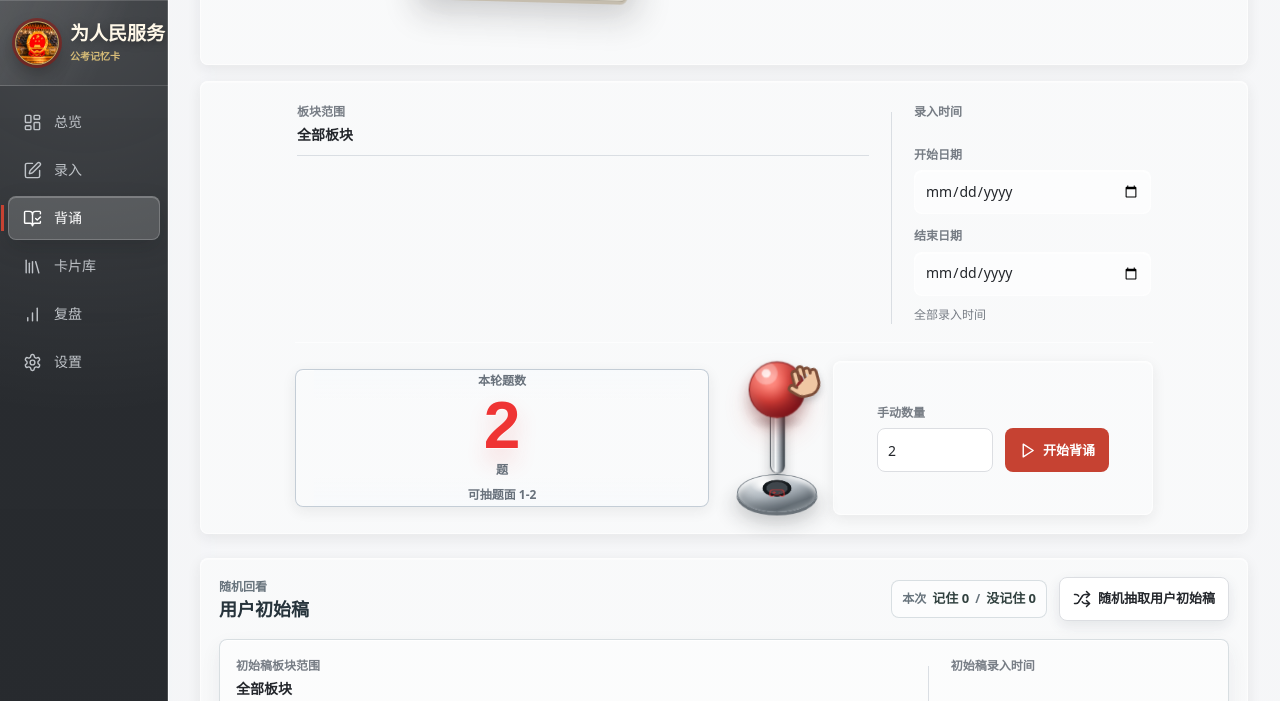
Test: 背诵键盘快捷操作 › 空格查看答案，左右方向键切换题目并收起答案
(page scrolled)
Click the button "开始背诵" at (1057, 450), box [1005,428,1109,472]
(page scrolled)
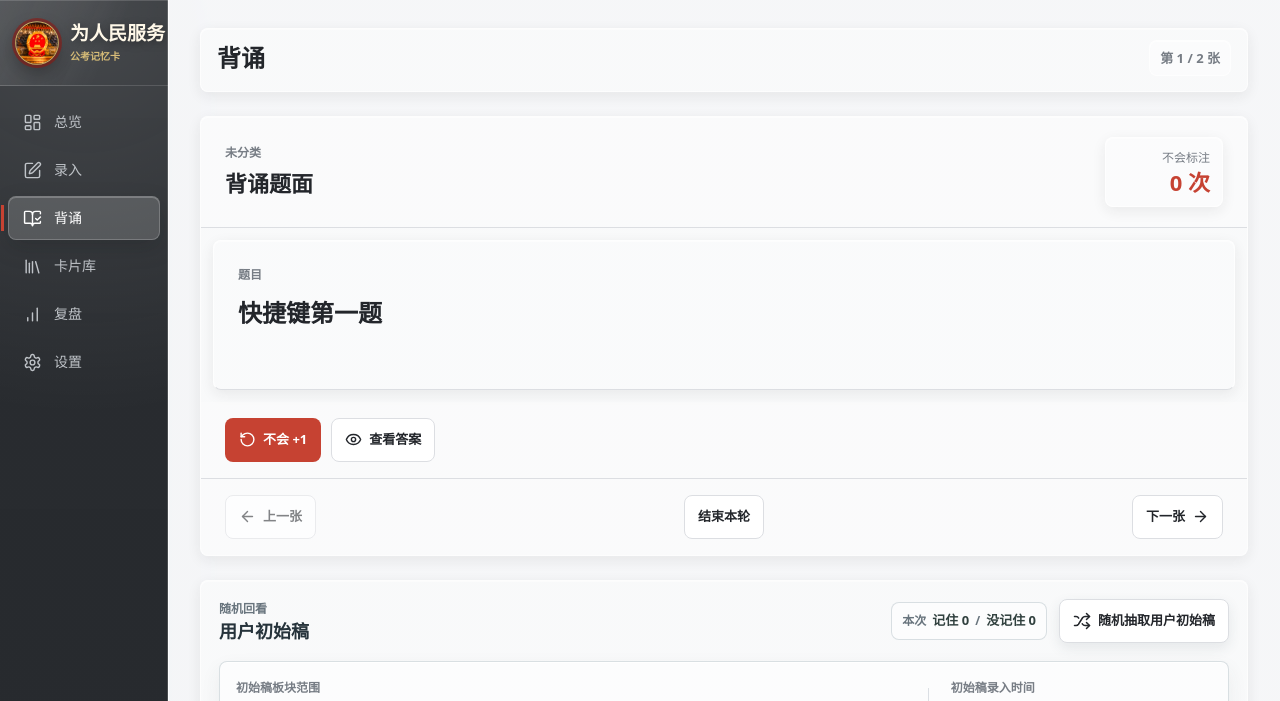
Now the text "快捷键第一题" is shown, box [238,296,382,329]
Press Space
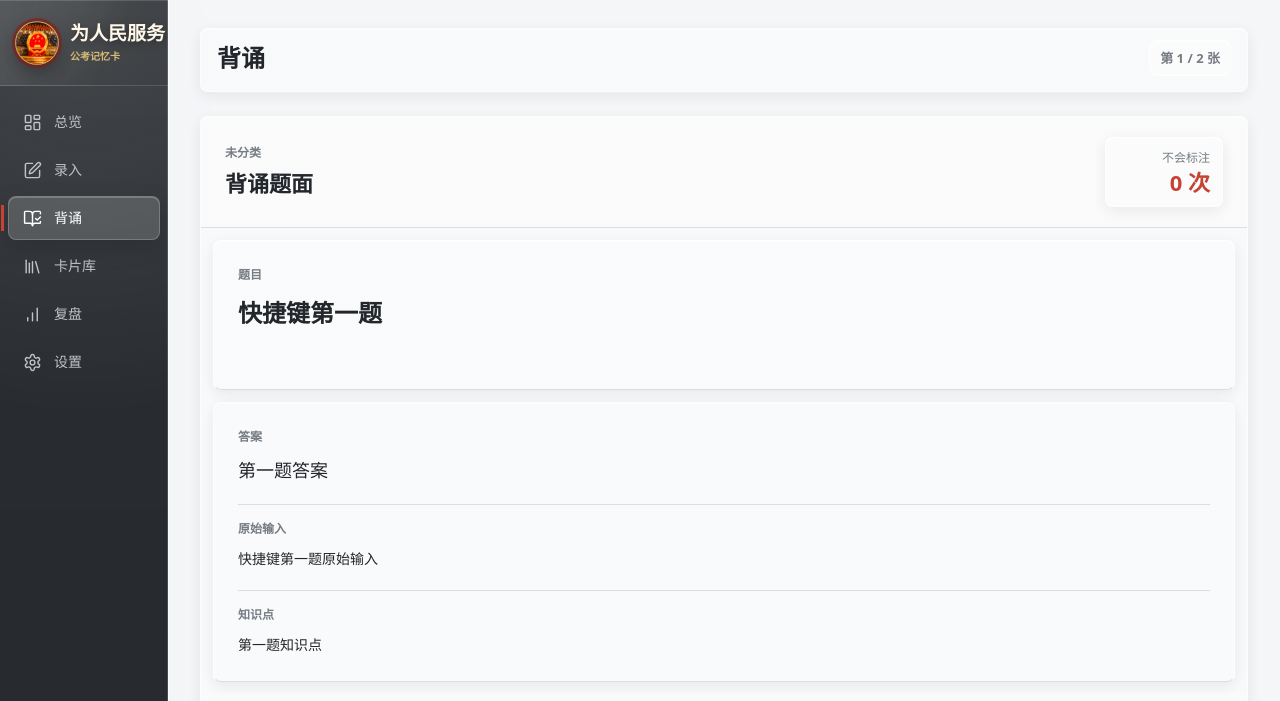
Now the text "第一题答案" is shown, box [238,458,328,482]
Press ArrowRight
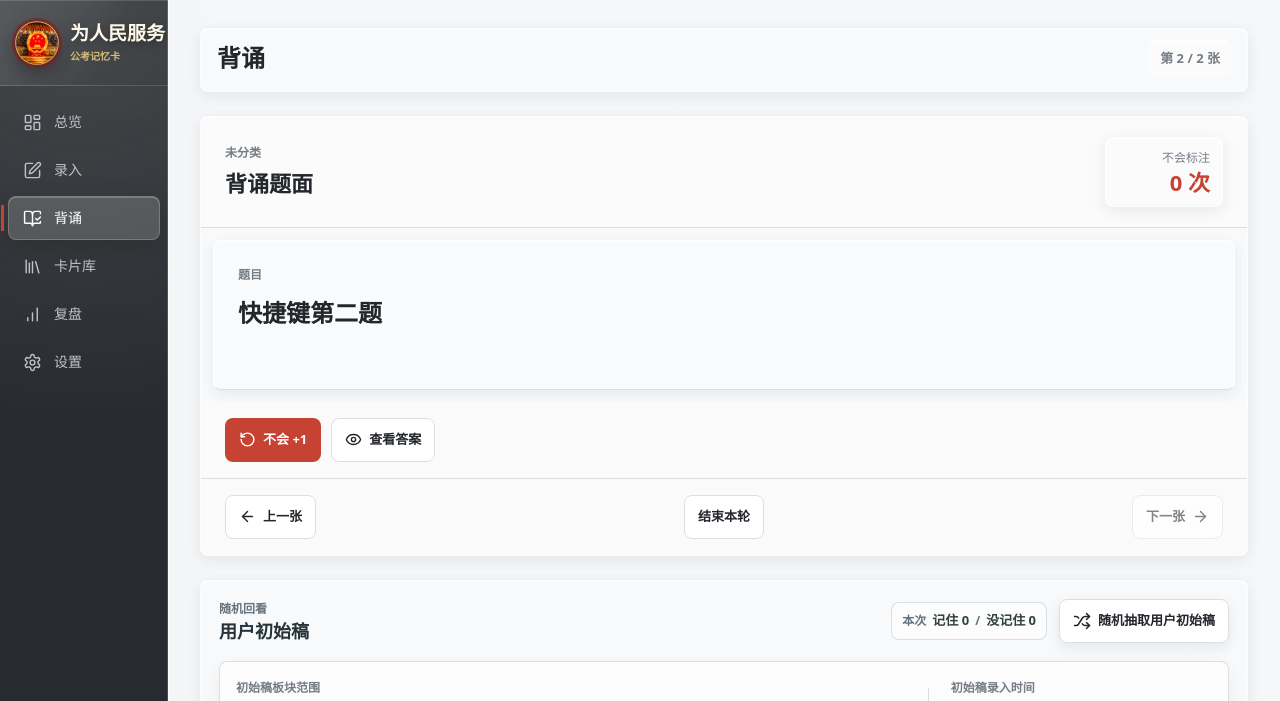
Now the text "快捷键第二题" is shown, box [238,296,382,329]
Now the text "第一题答案" is gone
Press ArrowLeft
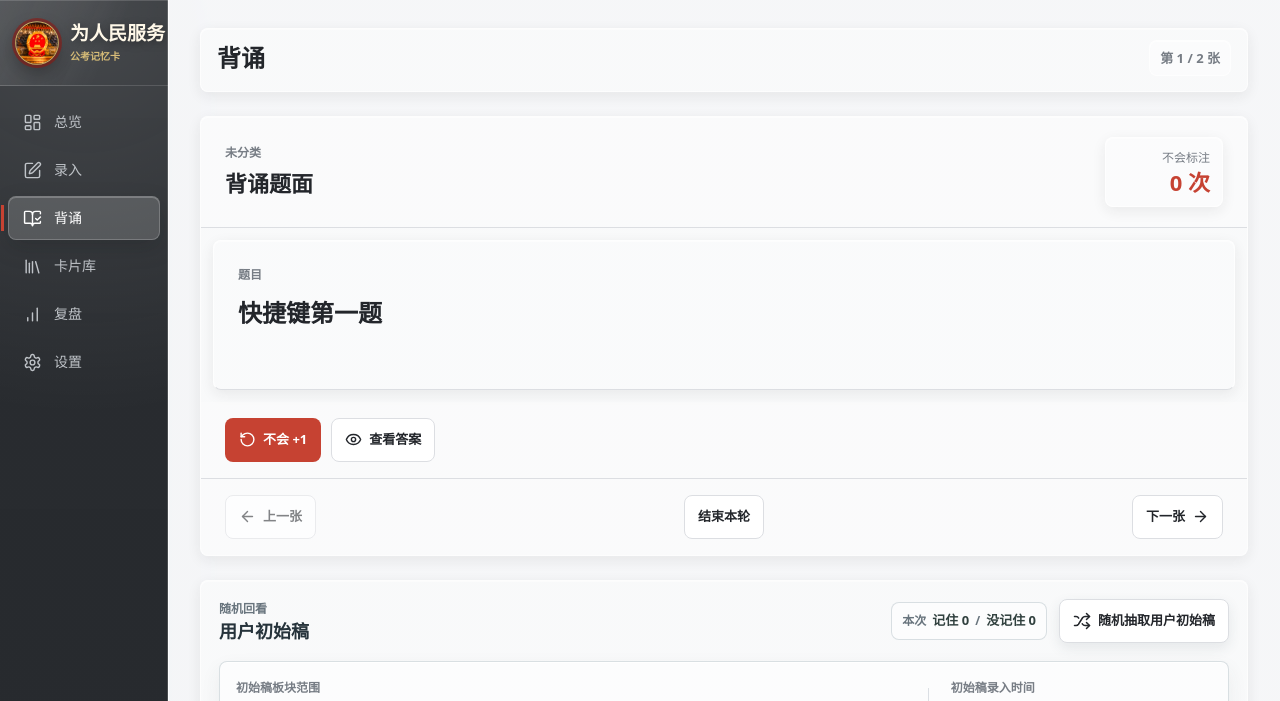
Expected: the text "第一题答案" is not shown
Now the text "快捷键第一题" is shown, box [238,296,382,329]
